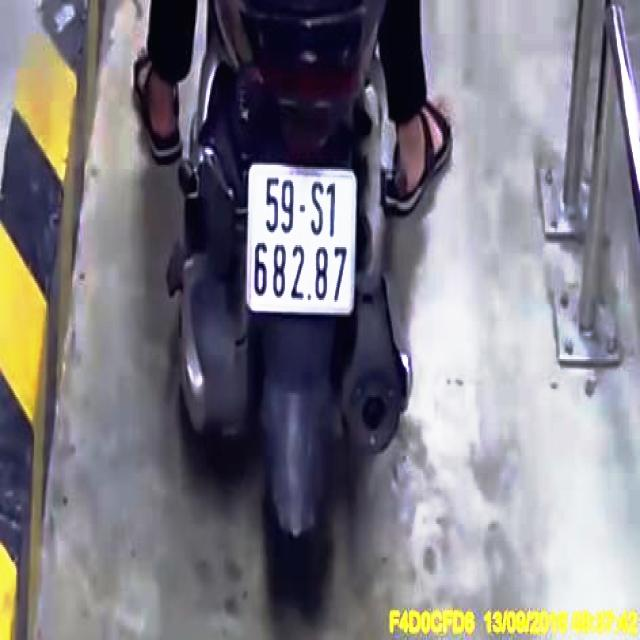license_plate: (249, 164, 357, 315)
